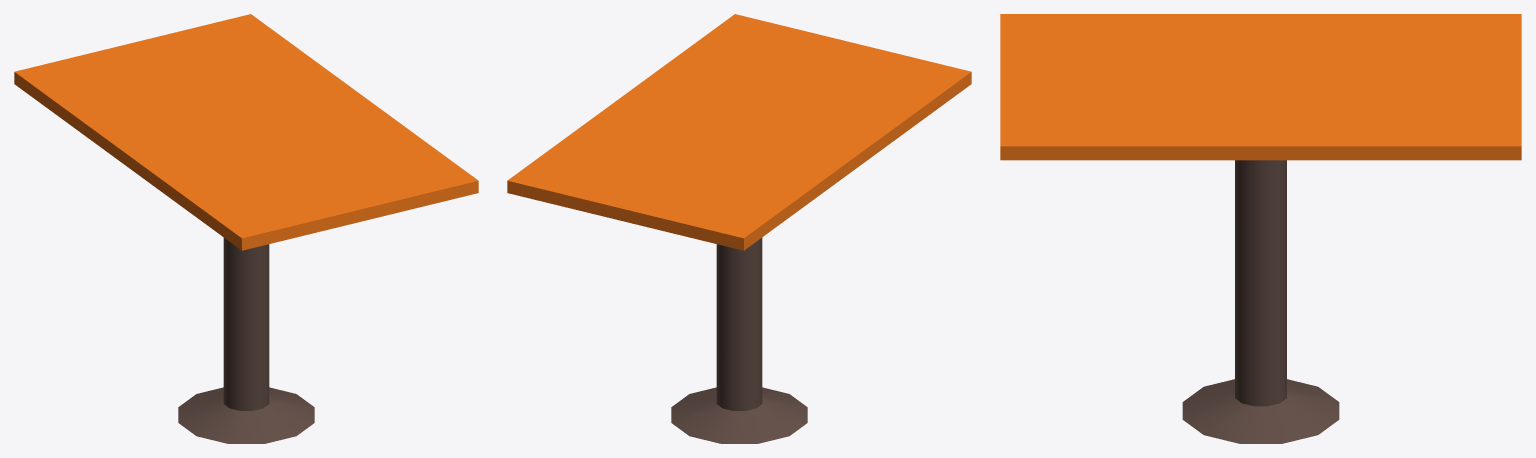
Rendered from table.fbx.
The picture shows the model from 3 angles, left to right: view 1: azimuth 30°, elevation 25°; view 2: azimuth 150°, elevation 25°; view 3: azimuth 270°, elevation 25°; orthographic projection. The views are drawn at different scales.
Visible parts, largest first — view 1: table; view 2: table; view 3: table.
Boxes of the visible parts, box(x1,y1,x2,y2) form: table: box(14, 14, 478, 443); table: box(507, 14, 971, 443); table: box(1000, 14, 1521, 443).
Size of the model in its own units: 97.04 by 113 by 162.
